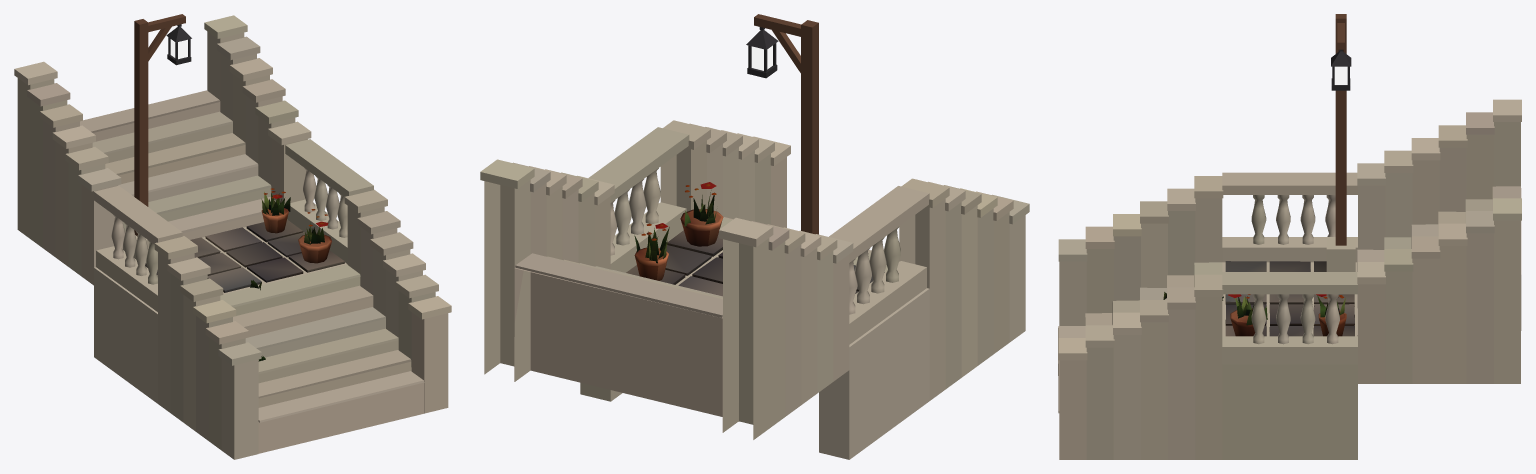
Rendered from escalera_rellano.glb.
The picture shows the model from 3 angles, left to right: view 1: azimuth 30°, elevation 25°; view 2: azimuth 150°, elevation 25°; view 3: azimuth 270°, elevation 25°; orthographic projection. The views are drawn at different scales.
Visible parts, largest first — view 1: escalera_rellano_fijo, escalera_rellano_piezas, escalera_rellano_vegetacion; view 2: escalera_rellano_fijo, escalera_rellano_piezas, escalera_rellano_vegetacion; view 3: escalera_rellano_fijo, escalera_rellano_piezas, escalera_rellano_vegetacion.
Boxes of the visible parts, box(x1,y1,x2,y2) form: escalera_rellano_fijo: box(14, 14, 451, 459); escalera_rellano_piezas: box(145, 208, 344, 292); escalera_rellano_vegetacion: box(250, 188, 328, 361); escalera_rellano_fijo: box(480, 14, 1029, 459); escalera_rellano_piezas: box(626, 209, 884, 296); escalera_rellano_vegetacion: box(634, 182, 716, 263); escalera_rellano_fijo: box(1058, 14, 1521, 459); escalera_rellano_piezas: box(1225, 261, 1354, 336); escalera_rellano_vegetacion: box(1163, 292, 1345, 325).
Size of the model in its own units: 3.18 by 4.59 by 5.47.
